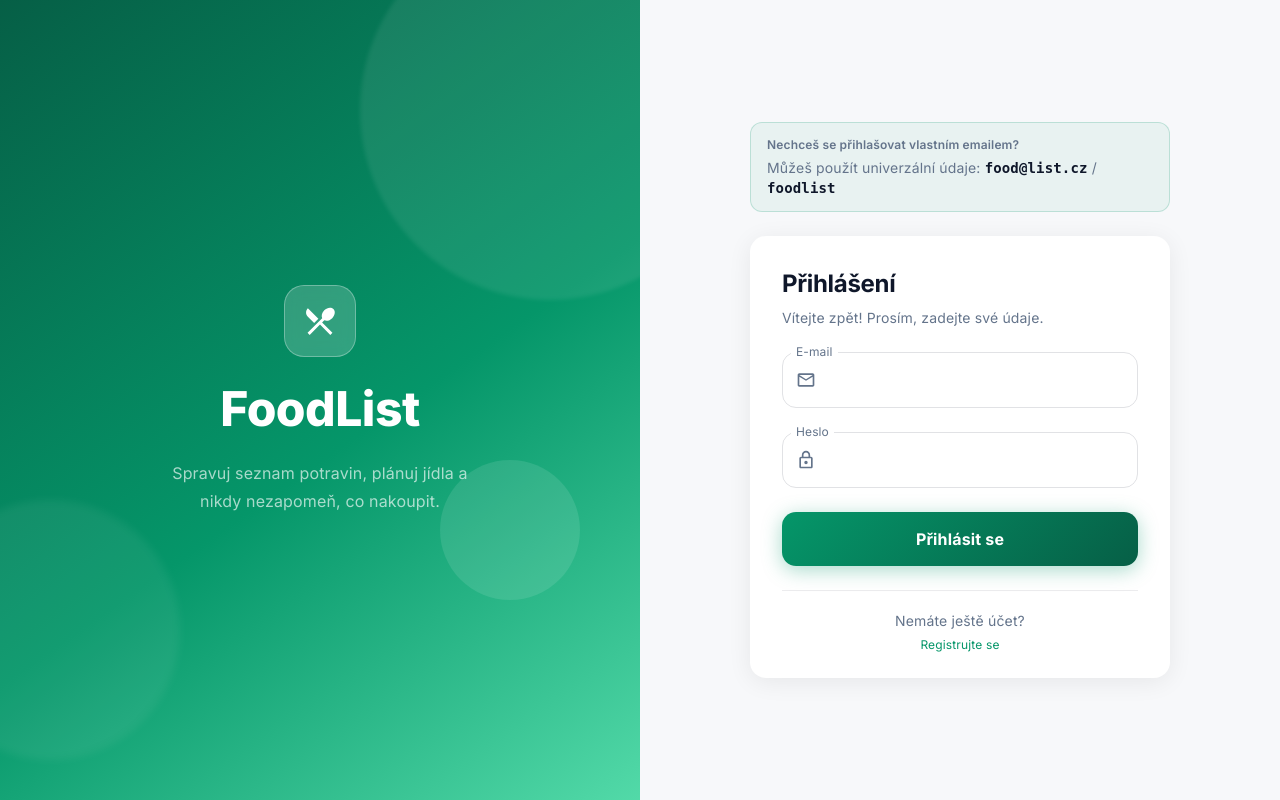
Test: AuthForm – Přihlášení › should show alert with error when credentials are invalid
The width and height of the screenshot is (1280, 800).
Type "wrong@example.com" into the field labelled "E-mail".
click(982, 380); type("wrong@example.com")  # box [826,352,1138,408]
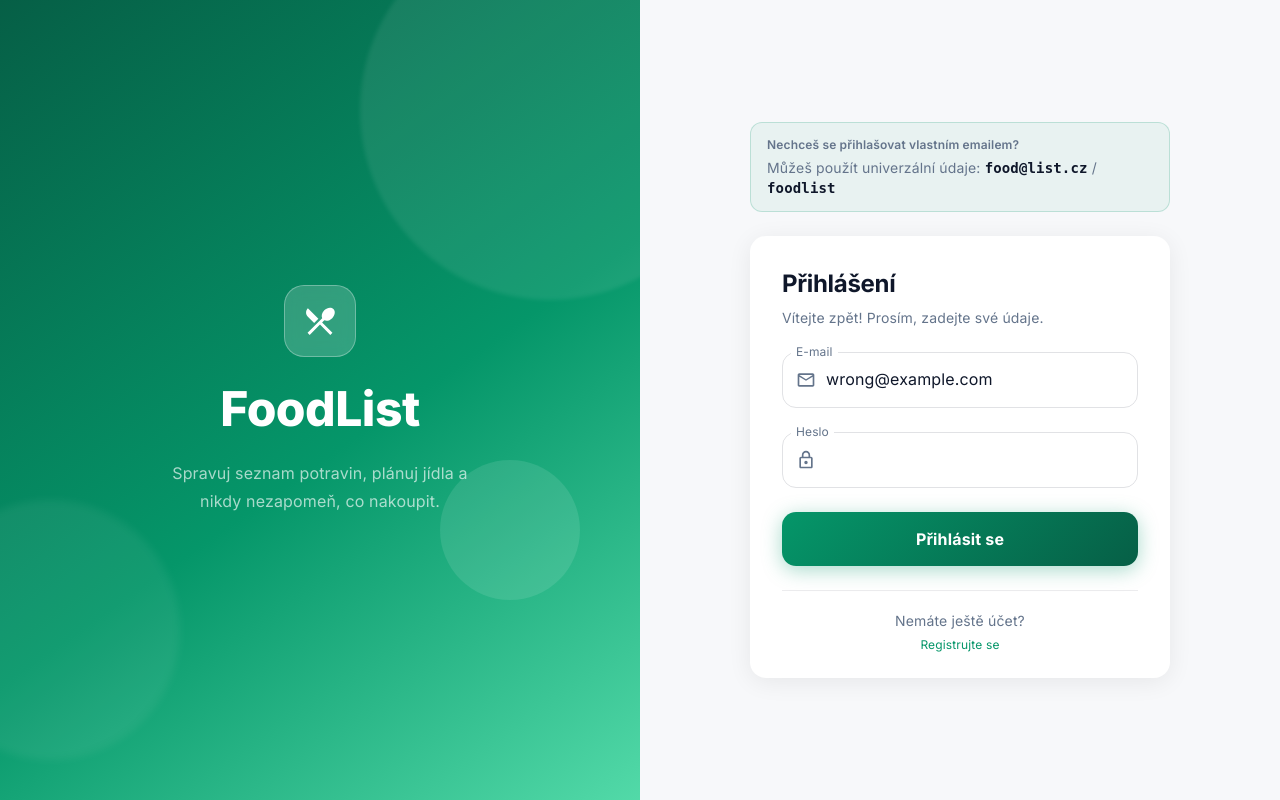
Type "wrongpass" into the password field labelled "Heslo".
click(982, 460); type("wrongpass")  # box [826,432,1138,488]
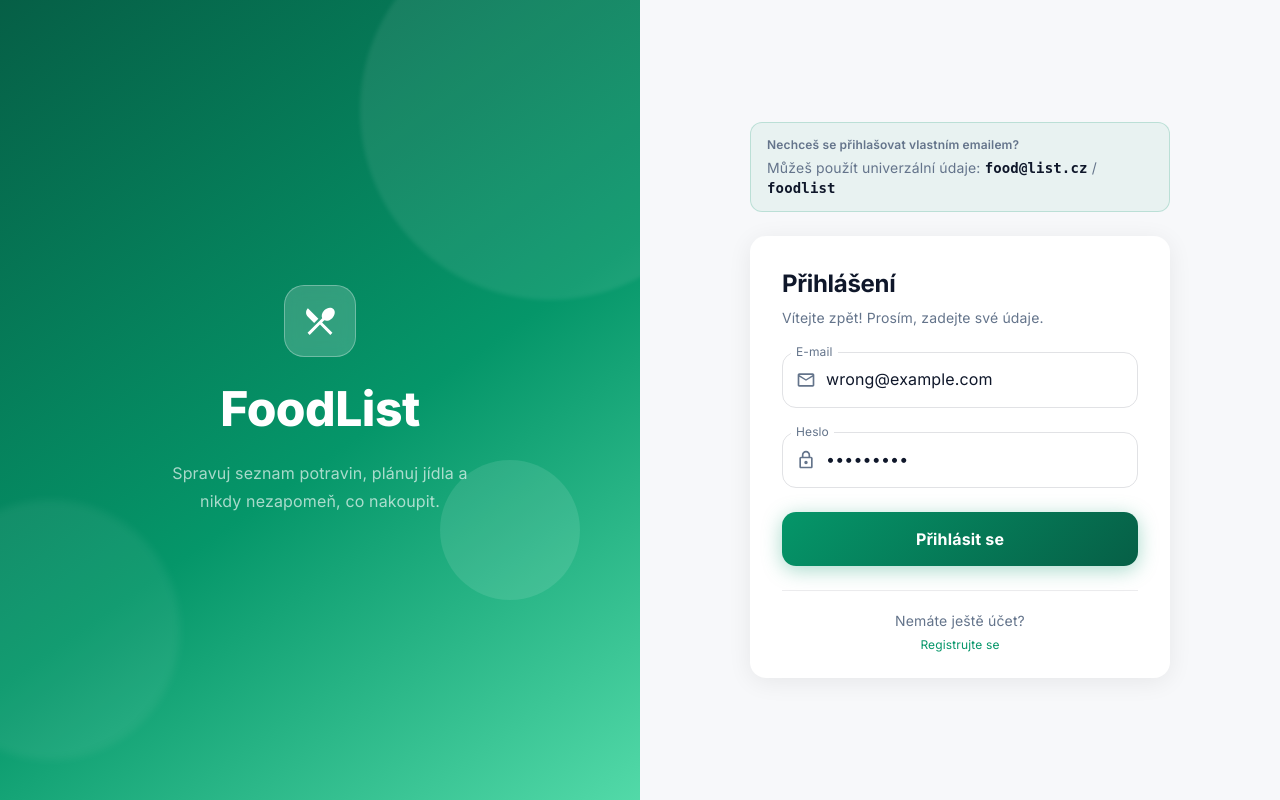
Click the button "Přihlásit se".
click(960, 539)  # box [782,512,1138,566]
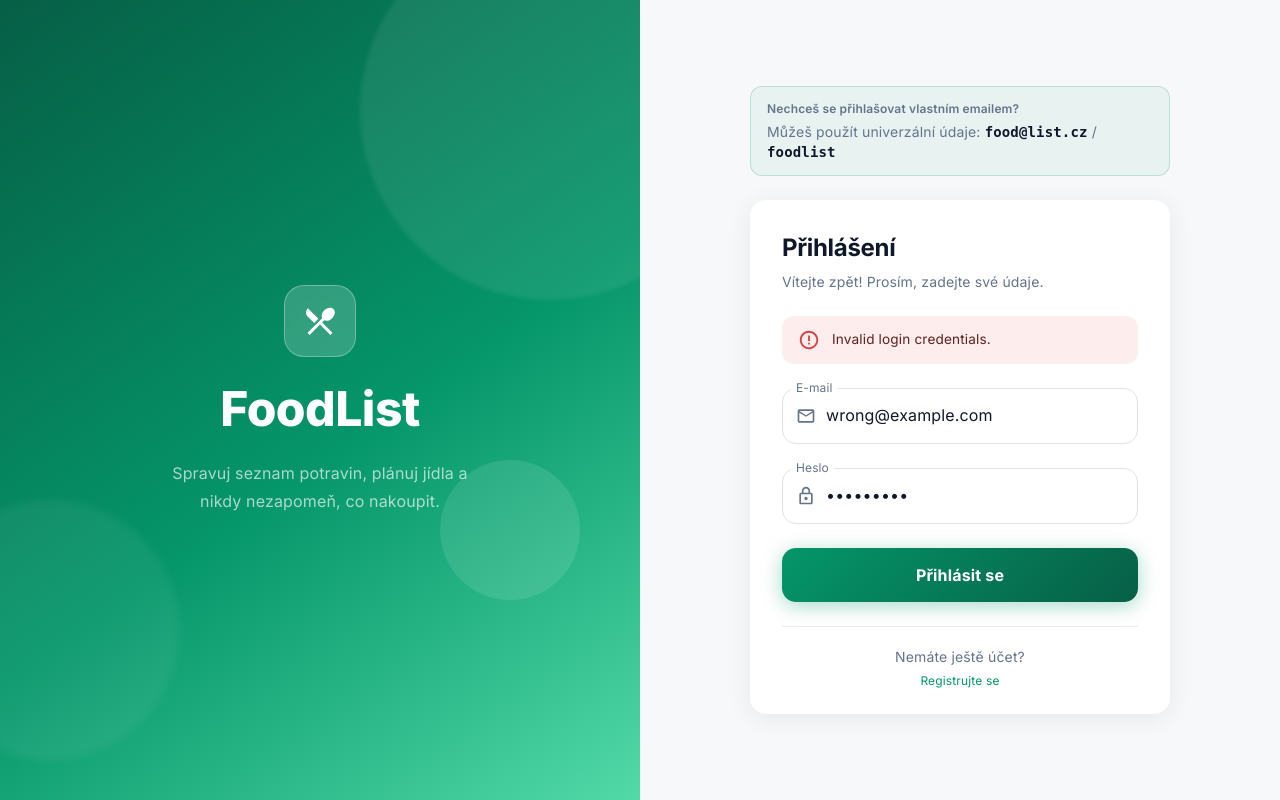
Now the message "Invalid login credentials." is shown, box [782,316,1138,364]
